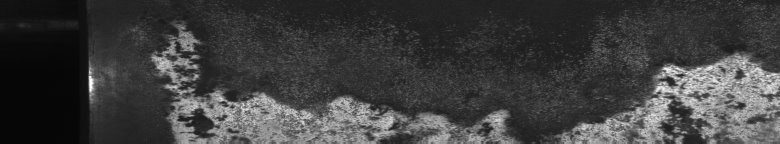kb: (184, 21, 776, 136)
